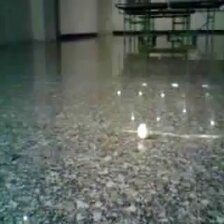w: (136, 122, 151, 140)
